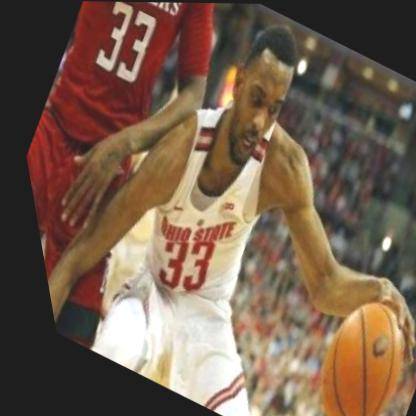basketball: (264, 268, 416, 416)
